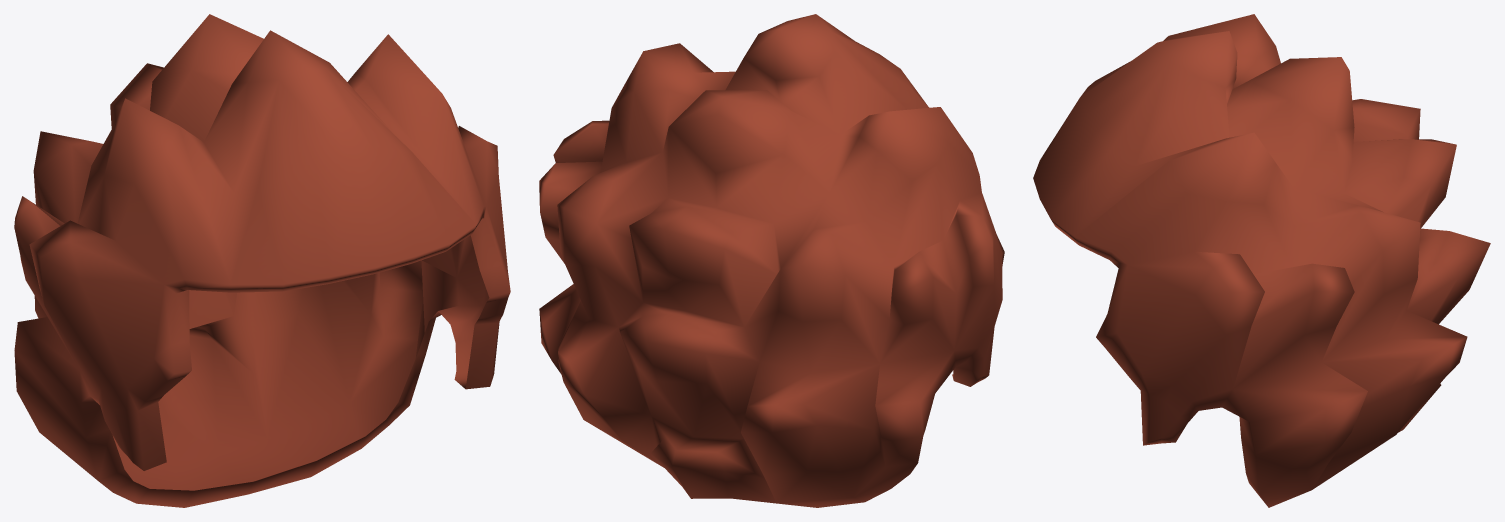
The model's file is Hair_Brown_16.fbx.
3 views of the same model, side by side, from view 1: azimuth 30°, elevation 25°; view 2: azimuth 150°, elevation 25°; view 3: azimuth 270°, elevation 25° (orthographic). The views are drawn at different scales.
Parts seen in each view (by area): view 1: Hair_Brown_16; view 2: Hair_Brown_16; view 3: Hair_Brown_16.
Boxes of the visible parts, x1,y1,x2,y2 form: Hair_Brown_16: (14, 14, 510, 507); Hair_Brown_16: (539, 14, 1004, 507); Hair_Brown_16: (1033, 14, 1490, 507).
Bounding box in the file's own units: 62.42 × 62.7 × 58.65.
